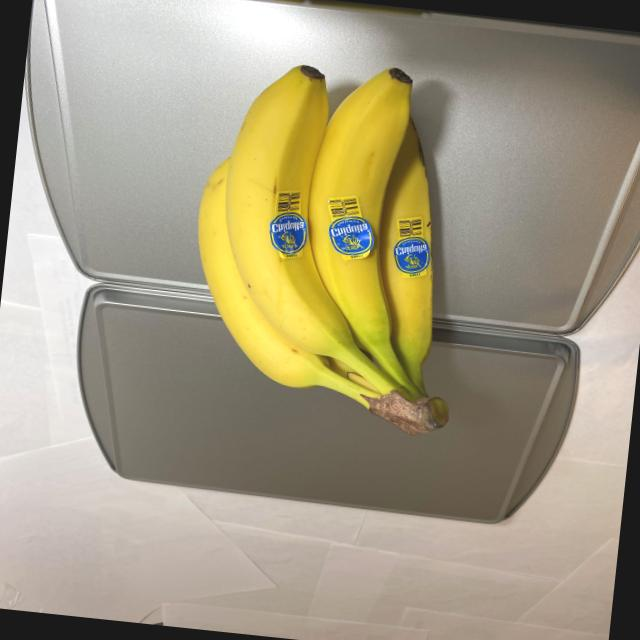banana: (167, 37, 489, 442)
